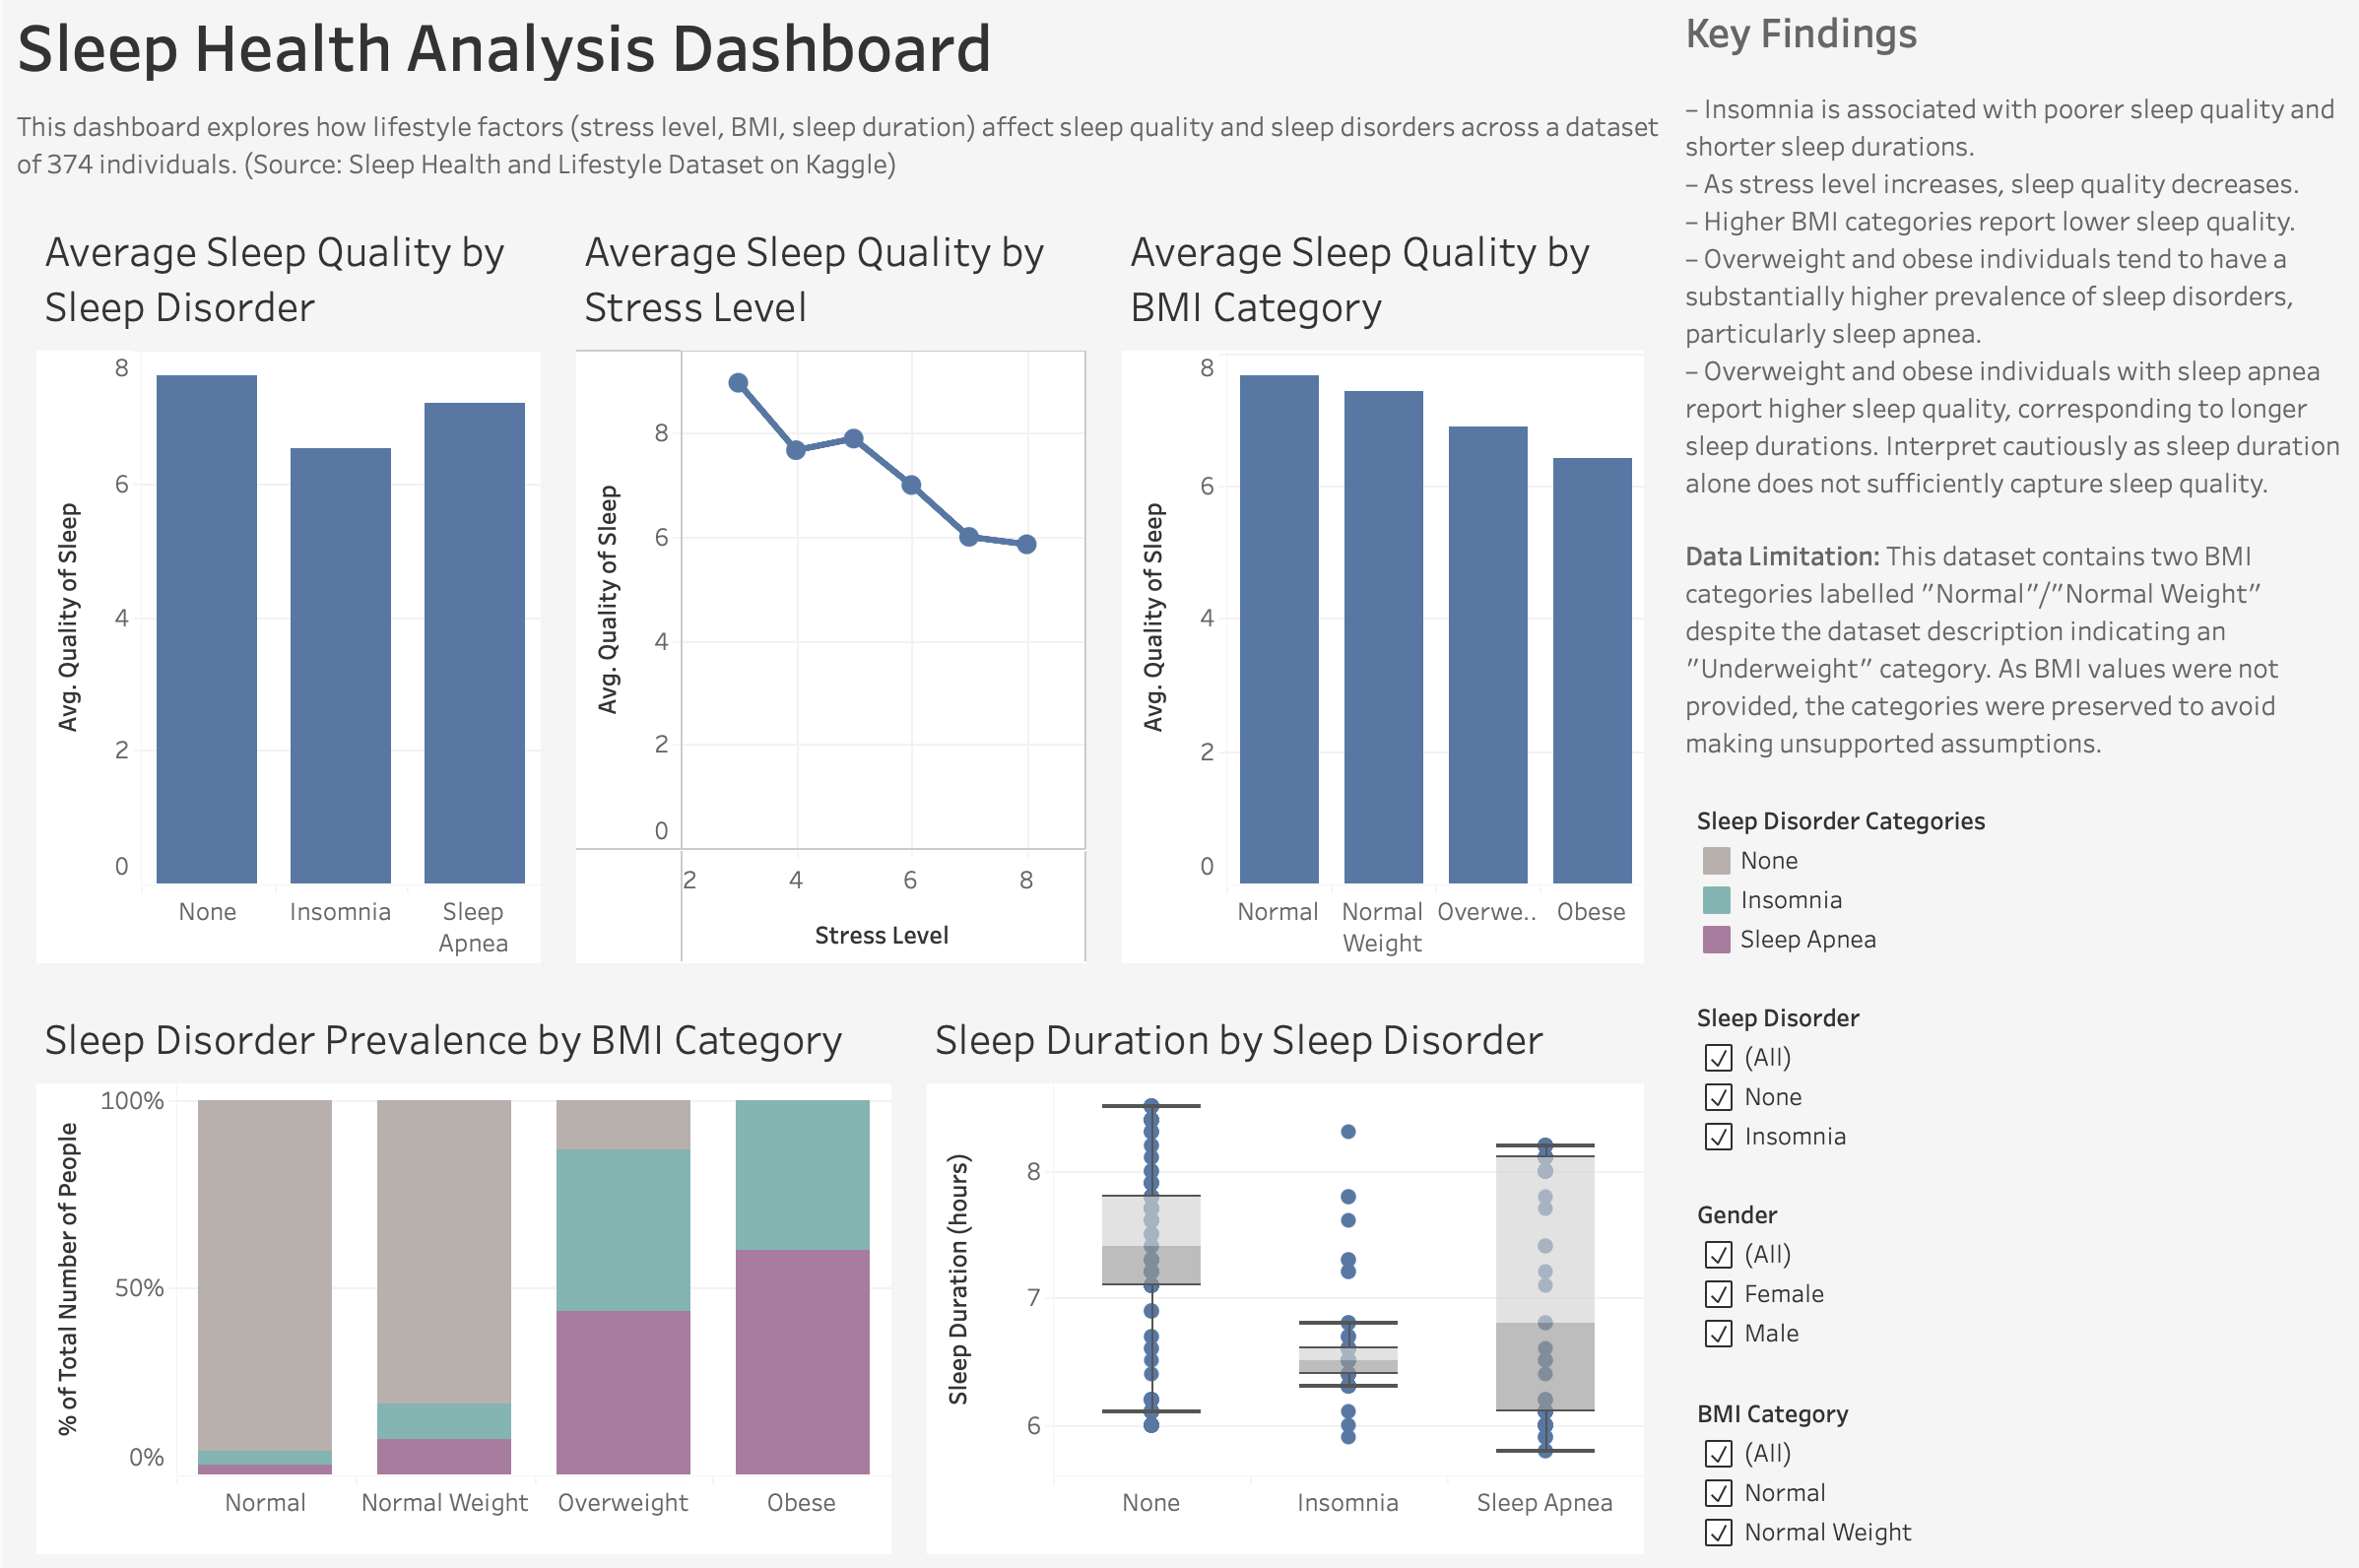

The page's visual inventory and layout, read from the dashboard file:
{"tool":"tableau","page":{"name":"Dashboard 1","canvas":[1200,800],"ordinal":0},"visuals":[{"type":"text","box":[0,0,850,50]},{"type":"text","box":[850,0,350,36]},{"type":"text","box":[850,36,350,364]},{"type":"text","box":[0,50,850,50]},{"type":"worksheet","title":"Average Sleep Quality by Sleep Disorder","mark":"Automatic","rows":["Quality of Sleep"],"cols":["Sleep Disorder"],"box":[0,100,282,400]},{"type":"worksheet","title":"Average Sleep Quality by Stress Level","mark":"Line","rows":["Quality of Sleep","Quality of Sleep"],"cols":["Stress Level"],"box":[282,100,277,400]},{"type":"worksheet","title":"Average Sleep Quality by BMI Category","mark":"Automatic","rows":["Quality of Sleep"],"cols":["BMI Category"],"box":[559,100,291,400]},{"type":"legend","title":"Sleep Disorder Prevalence by BMI Category","param":"[federated.0p9d84k1k1w0lq1g2rcab0fa4jrr].[none:Sleep Disorder:nk]","box":[850,400,350,99]},{"type":"filter","title":"Average Sleep Quality by BMI Category","param":"[federated.0p9d84k1k1w0lq1g2rcab0fa4jrr].[none:Sleep Disorder:nk]","box":[850,499,350,100.3]},{"type":"worksheet","title":"Sleep Disorder Prevalence by BMI Category","mark":"Automatic","cols":["BMI Category"],"box":[0,500,460,300]},{"type":"worksheet","title":"Sleep Duration Distribution by Sleep Disorder","mark":"Circle","rows":["Sleep Duration"],"cols":["Sleep Disorder"],"box":[460,500,390,300]},{"type":"filter","title":"Average Sleep Quality by BMI Category","param":"[federated.0p9d84k1k1w0lq1g2rcab0fa4jrr].[none:Gender:nk]","box":[850,599.3,350,100.3]},{"type":"filter","title":"Average Sleep Quality by Sleep Disorder","param":"[federated.0p9d84k1k1w0lq1g2rcab0fa4jrr].[none:BMI Category:nk]","box":[850,699.7,350,100.3]}]}

Visuals, with their boxes in screenshot pixels (x1, y1, x2, y2), scaled from the page's 1200x800 canvas onto the 2359x1568 screenshot:
text: region(0, 0, 1671, 98)
text: region(1671, 0, 2358, 71)
text: region(1671, 71, 2358, 784)
text: region(0, 98, 1671, 196)
"Average Sleep Quality by Sleep Disorder" worksheet: region(0, 196, 555, 980)
"Average Sleep Quality by Stress Level" worksheet (Line marks): region(555, 196, 1099, 980)
"Average Sleep Quality by BMI Category" worksheet: region(1099, 196, 1671, 980)
"Sleep Disorder Prevalence by BMI Category" legend: region(1671, 784, 2358, 978)
"Average Sleep Quality by BMI Category" filter: region(1671, 978, 2358, 1175)
"Sleep Disorder Prevalence by BMI Category" worksheet: region(0, 980, 904, 1567)
"Sleep Duration Distribution by Sleep Disorder" worksheet (Circle marks): region(904, 980, 1671, 1567)
"Average Sleep Quality by BMI Category" filter: region(1671, 1175, 2358, 1371)
"Average Sleep Quality by Sleep Disorder" filter: region(1671, 1371, 2358, 1567)
